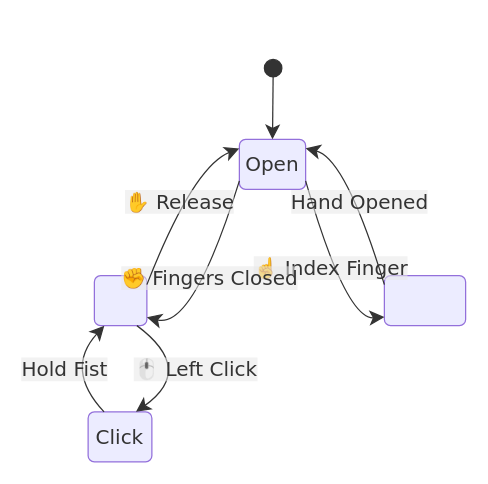
This 488x484 diagram has some shape labels left out. The box of each missing label's shape, as (x1, y1, x2, y2) in pixels:
Fist: (93, 274, 147, 326)
Moving: (383, 274, 466, 326)
